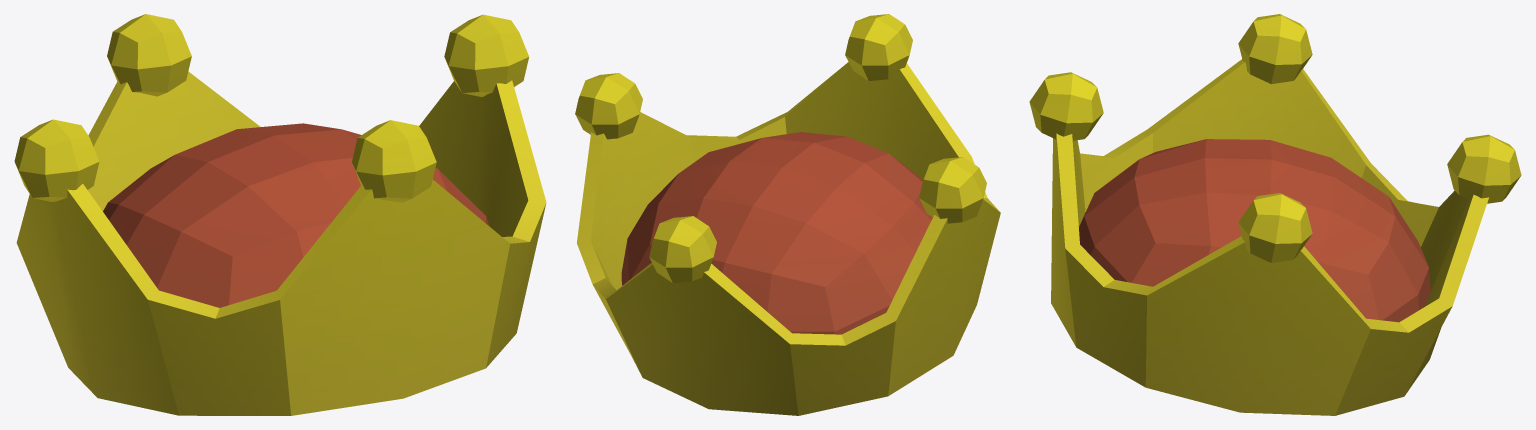
File: Couronne.fbx
3 views of the same model, side by side, from view 1: azimuth 30°, elevation 25°; view 2: azimuth 150°, elevation 25°; view 3: azimuth 270°, elevation 25° (orthographic). The views are drawn at different scales.
Parts seen in each view (by area): view 1: Crown; view 2: Crown; view 3: Crown.
Part boxes in pixels (<box>): Crown: <box>14,14,546,415</box>; Crown: <box>575,14,1000,415</box>; Crown: <box>1029,14,1521,415</box>.
Bounding box in the file's own units: 225 × 143 × 222.
